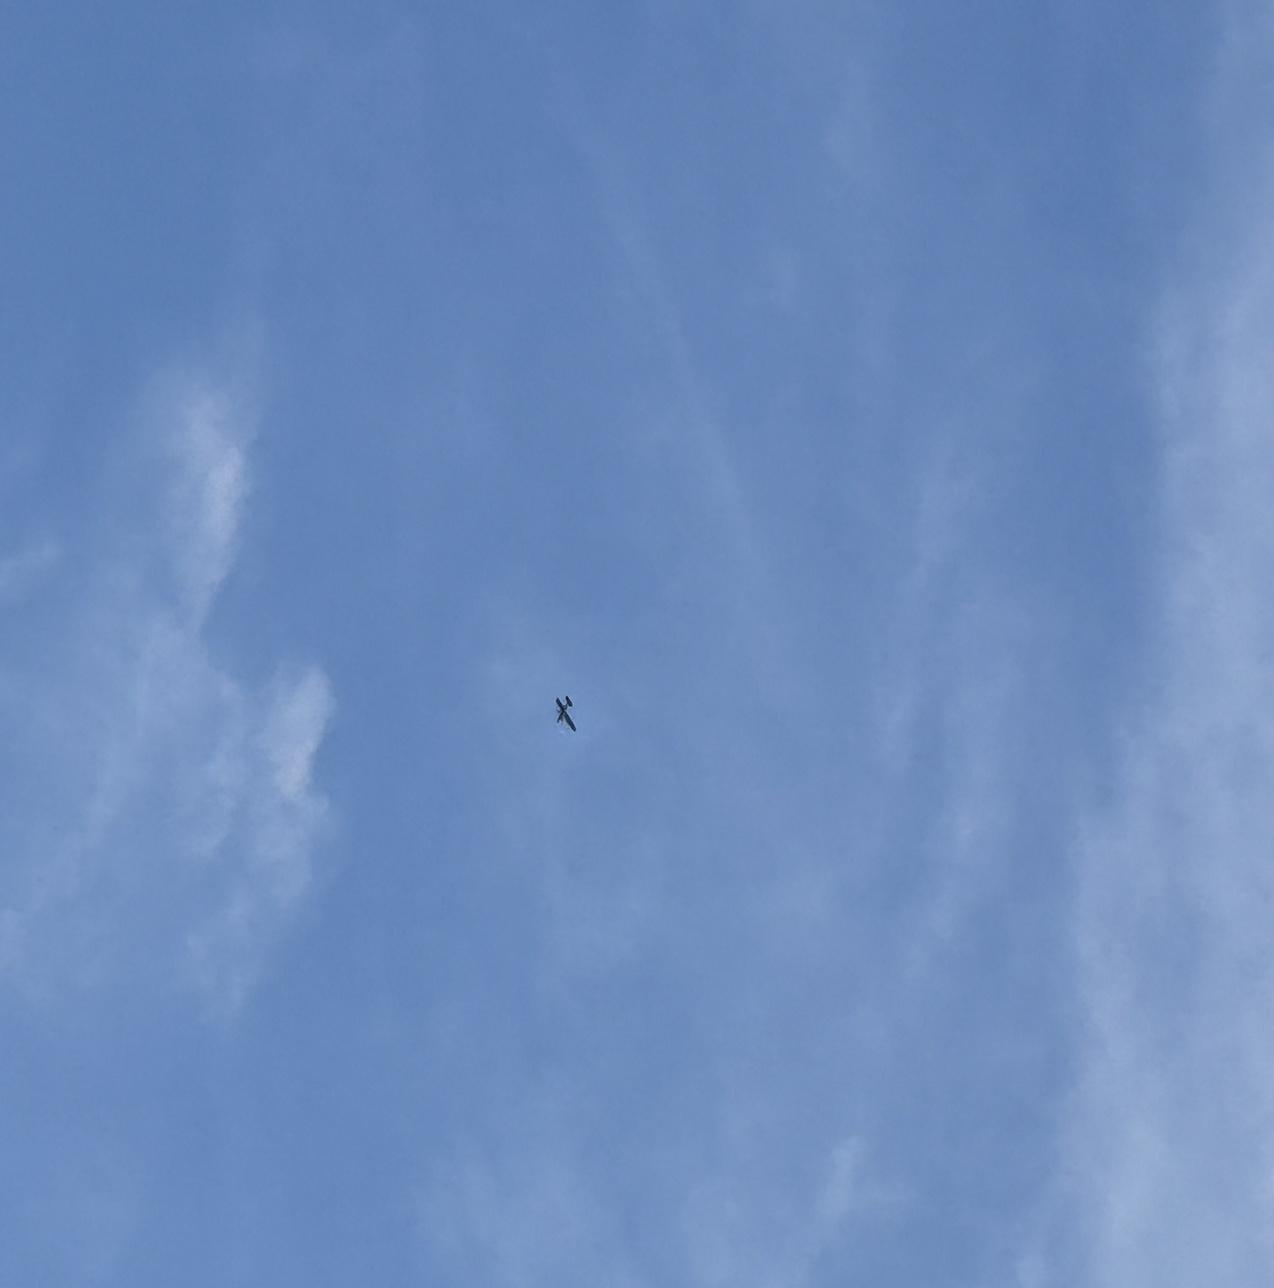Plane: (535, 679, 595, 752)
